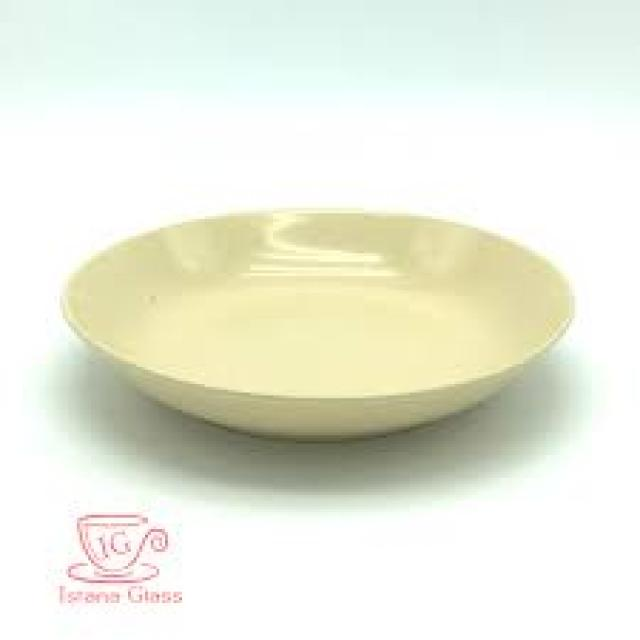Plate: (56, 190, 590, 468)
